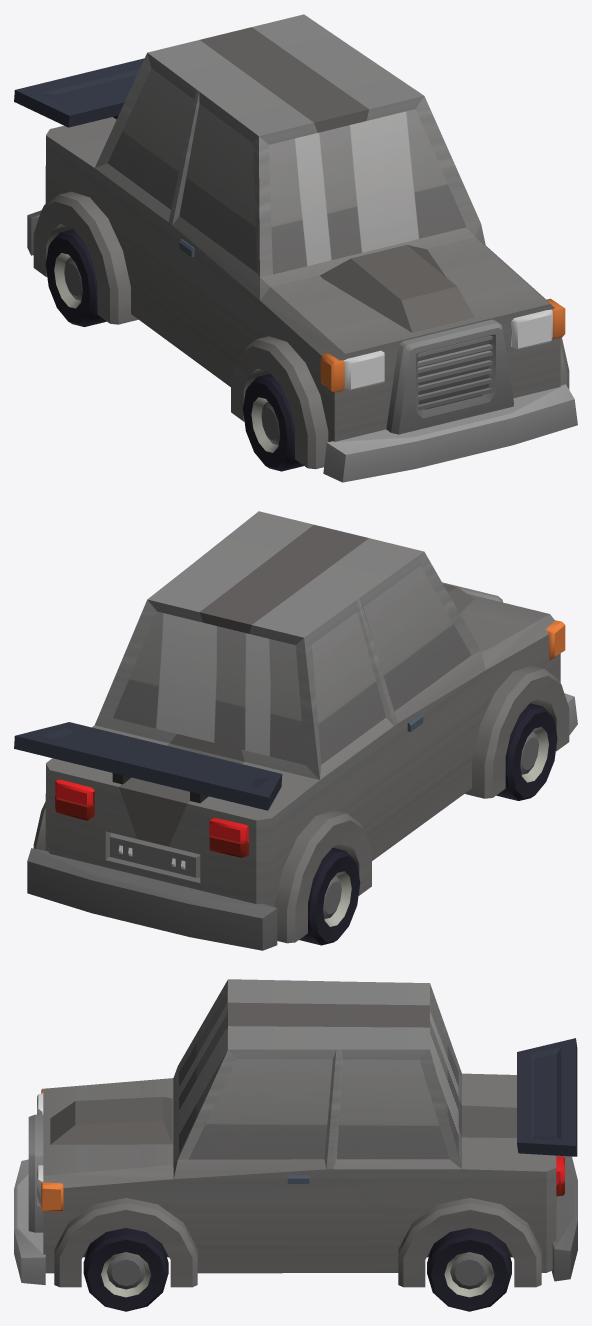
The model's file is SportCar_15.fbx.
3 renders of one model, top to bottom at view 1: azimuth 30°, elevation 25°; view 2: azimuth 150°, elevation 25°; view 3: azimuth 270°, elevation 25°, orthographic. The views are drawn at different scales.
Visible parts, largest first — view 1: SportCar_15, Wheel_fr, Wheel_br; view 2: SportCar_15, Wheel_br, Wheel_fr; view 3: SportCar_15, Wheel_fl, Wheel_bl.
Boxes of the visible parts, x1,y1,x2,y2 form: SportCar_15: [14, 14, 577, 482]; Wheel_fr: [243, 373, 303, 471]; Wheel_br: [45, 229, 106, 326]; SportCar_15: [14, 511, 577, 950]; Wheel_br: [299, 847, 360, 945]; Wheel_fr: [496, 703, 557, 800]; SportCar_15: [14, 979, 577, 1287]; Wheel_fl: [83, 1228, 168, 1311]; Wheel_bl: [427, 1228, 511, 1311].
Size of the model in its own units: 1.12 by 1.1 by 2.33.
